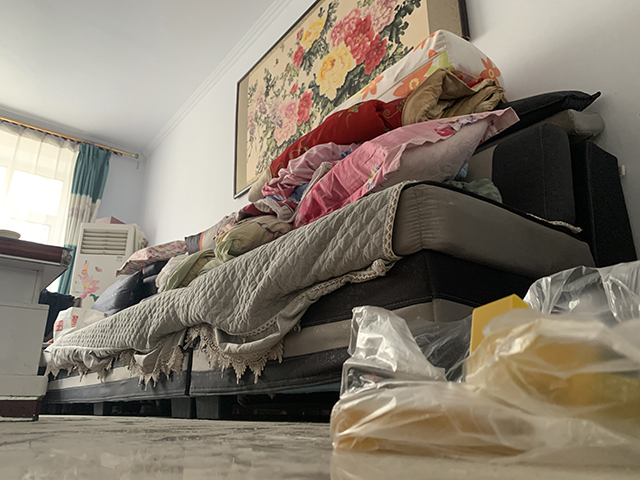sofa: (37, 125, 579, 420)
